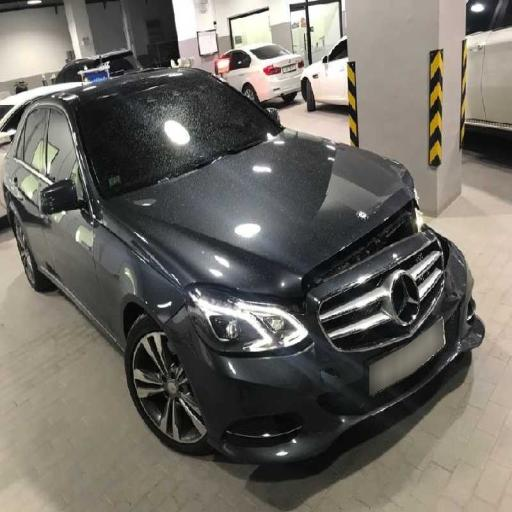broken: (353, 170, 501, 385), (159, 242, 263, 369)
